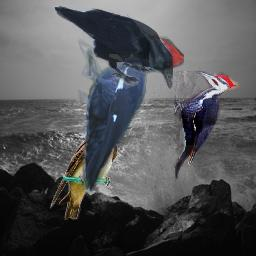Crow: (53, 6, 173, 89)
Swallow: (50, 119, 121, 220)
Woodpecker: (78, 13, 184, 200), (174, 71, 241, 181)
